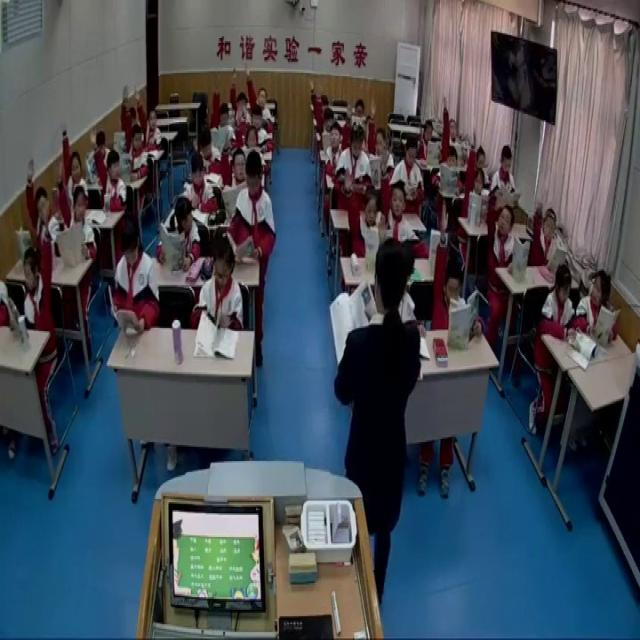distracted: (156, 195, 201, 273), (577, 268, 619, 348)
focused: (228, 151, 280, 272), (106, 222, 159, 336), (194, 236, 245, 332), (334, 121, 377, 215), (543, 260, 579, 345), (392, 133, 424, 212), (183, 149, 221, 213), (491, 146, 522, 212), (432, 147, 464, 195), (198, 122, 225, 178), (324, 122, 348, 181), (241, 124, 270, 171), (247, 105, 274, 155)
raising_hand: (434, 196, 484, 344), (378, 140, 433, 262), (20, 202, 54, 330), (56, 157, 98, 258), (342, 165, 382, 257), (24, 158, 60, 255), (88, 126, 128, 213), (58, 123, 89, 214), (487, 183, 517, 275), (528, 179, 556, 272), (462, 124, 488, 221), (124, 87, 148, 187), (211, 76, 237, 154), (134, 86, 162, 153), (246, 60, 274, 126), (369, 97, 393, 172), (440, 93, 464, 162), (230, 65, 248, 125), (309, 77, 330, 125), (418, 116, 438, 160)
